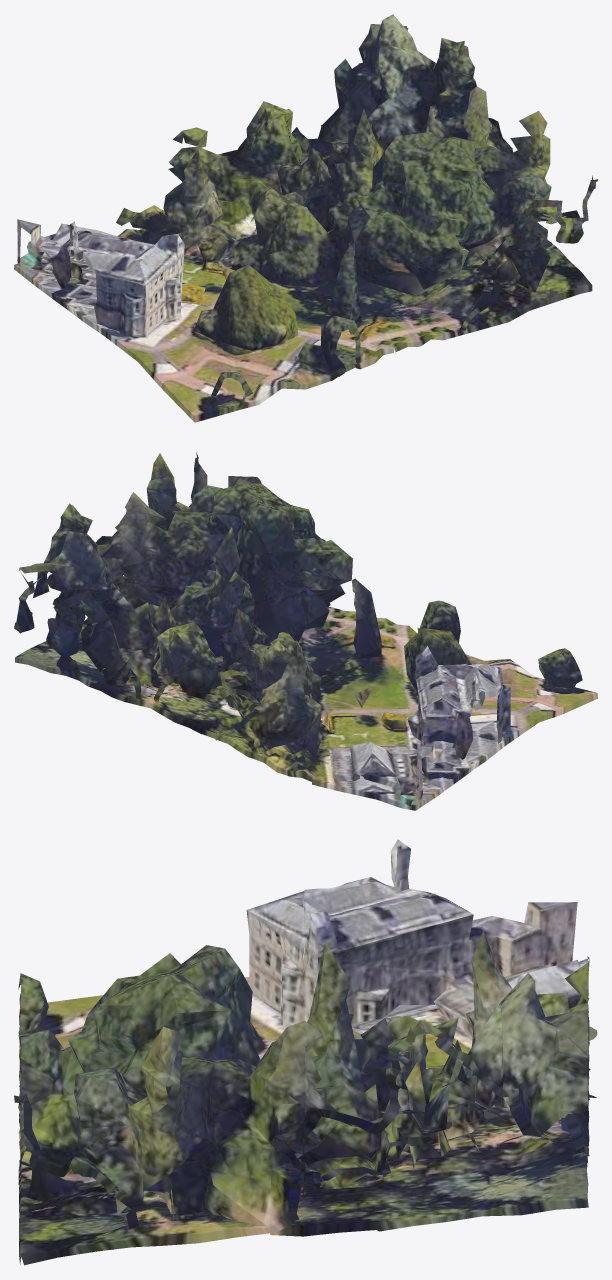
3 renders of one model, top to bottom at view 1: azimuth 30°, elevation 25°; view 2: azimuth 150°, elevation 25°; view 3: azimuth 270°, elevation 25°, orthographic. The views are drawn at different scales.
Visible parts, largest first — view 1: Mesh_0.224; view 2: Mesh_0.224; view 3: Mesh_0.224.
Boxes of the visible parts, x1,y1,x2,y2 form: Mesh_0.224: [14, 14, 597, 422]; Mesh_0.224: [14, 452, 597, 810]; Mesh_0.224: [14, 839, 597, 1265].
Bounding box in the file's own units: 99.26 × 46.39 × 78.68.
Materials: 1 (1 with a texture image).
